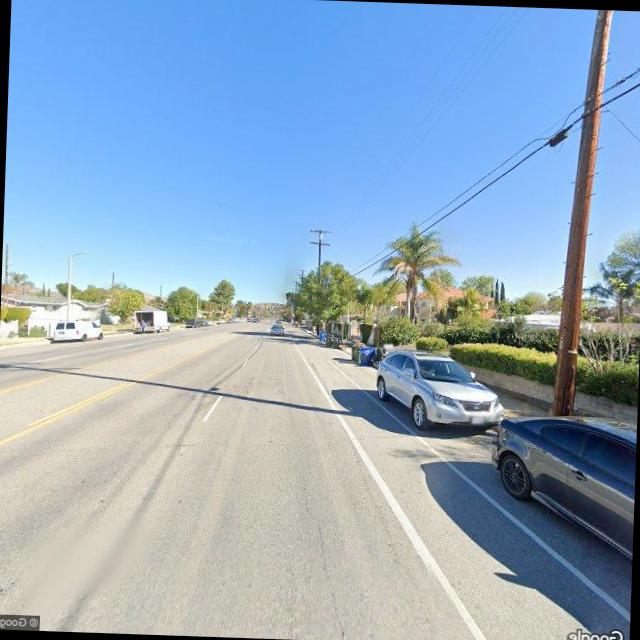pothole: (299, 482, 359, 640)
